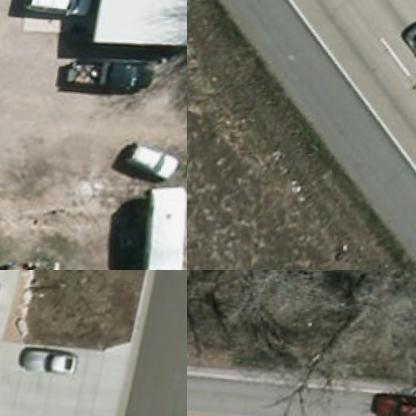car: (124, 141, 186, 186), (20, 348, 80, 378), (20, 0, 96, 22), (394, 19, 415, 84), (370, 391, 415, 415)
pickup: (66, 57, 154, 92)
